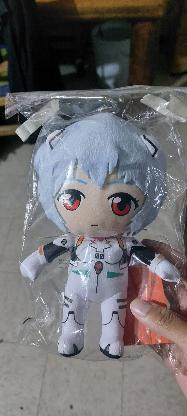rei-plush: (8, 120, 185, 356)
